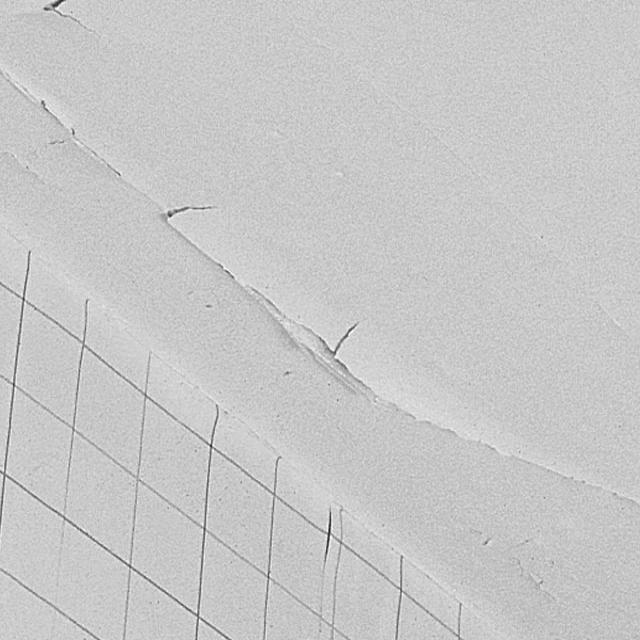peeling paint: (0, 0, 640, 531)
